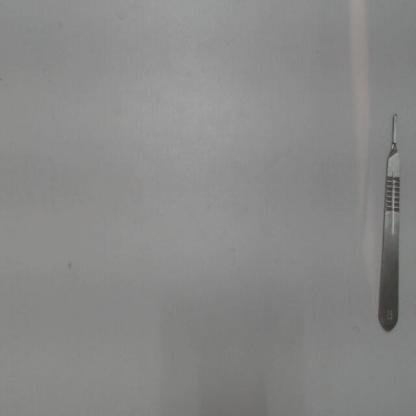No.3 BP Handle: (376, 102, 404, 334)
